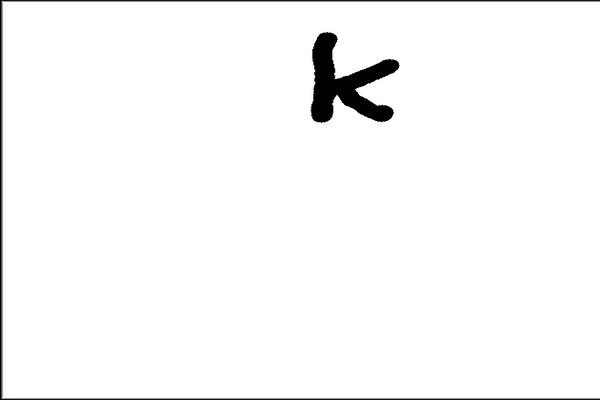K: (303, 26, 407, 136)
